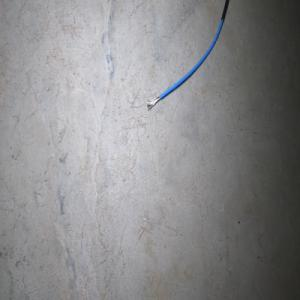Wire: (146, 0, 229, 110)
